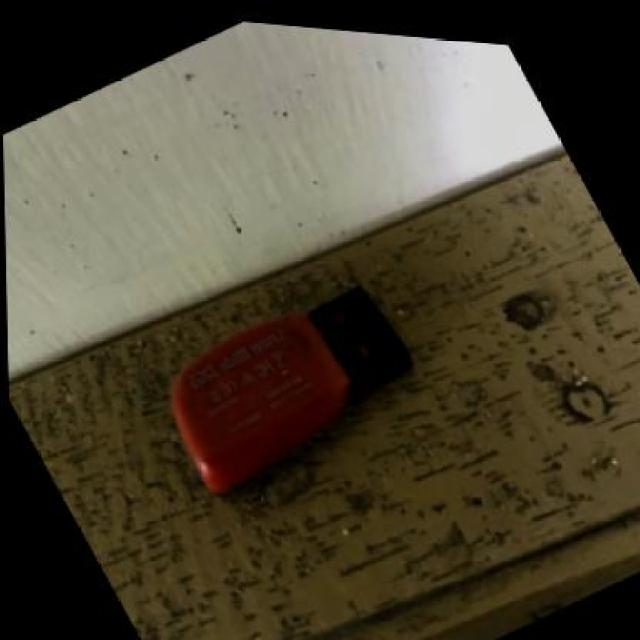Flashdisk: (109, 222, 446, 542)
